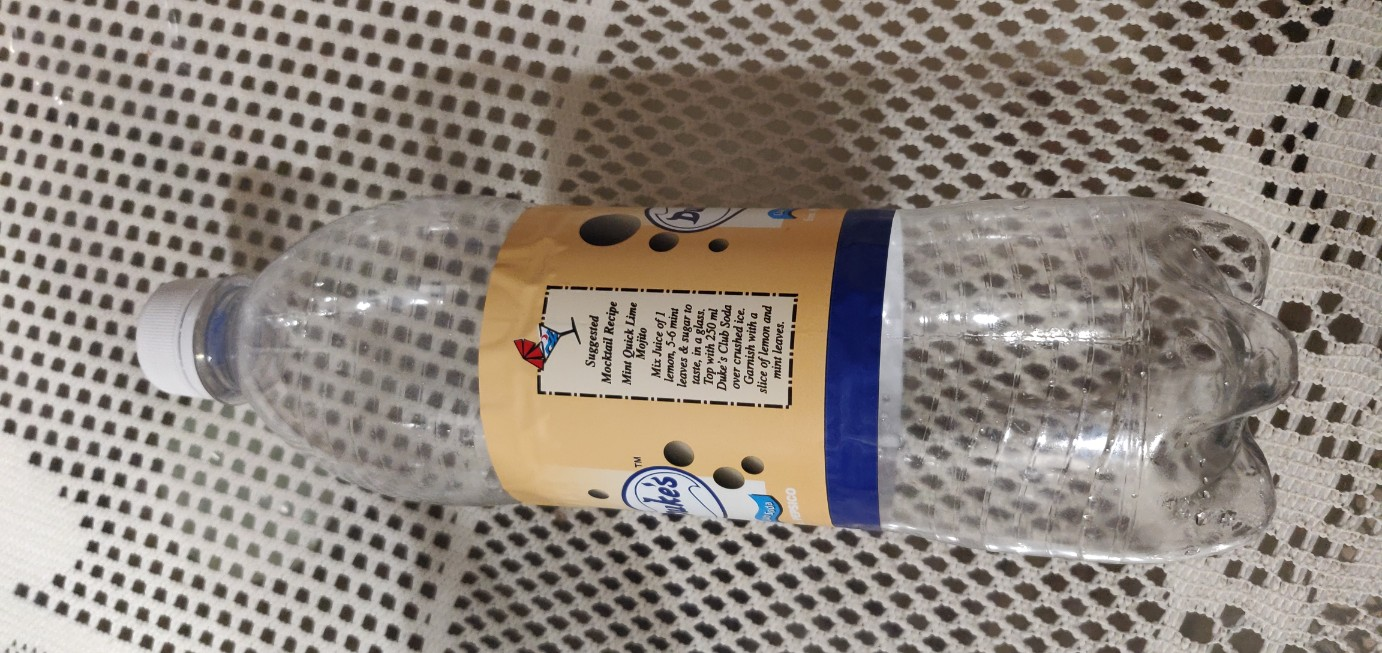Electronics: (104, 163, 1316, 592)
